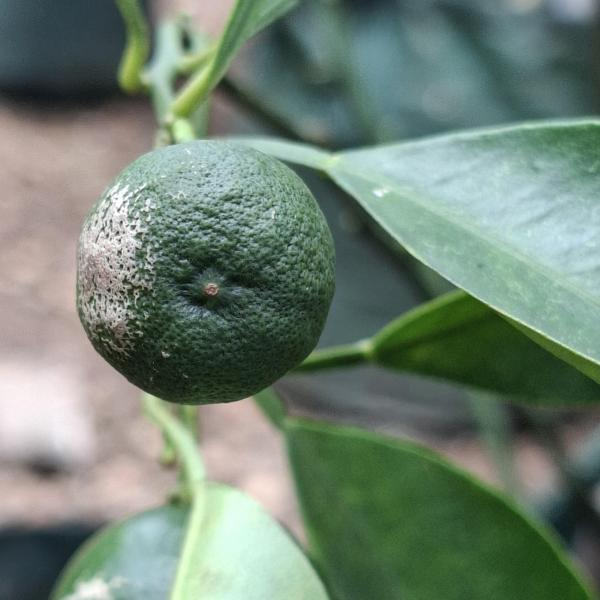Scab: (70, 127, 351, 415)
